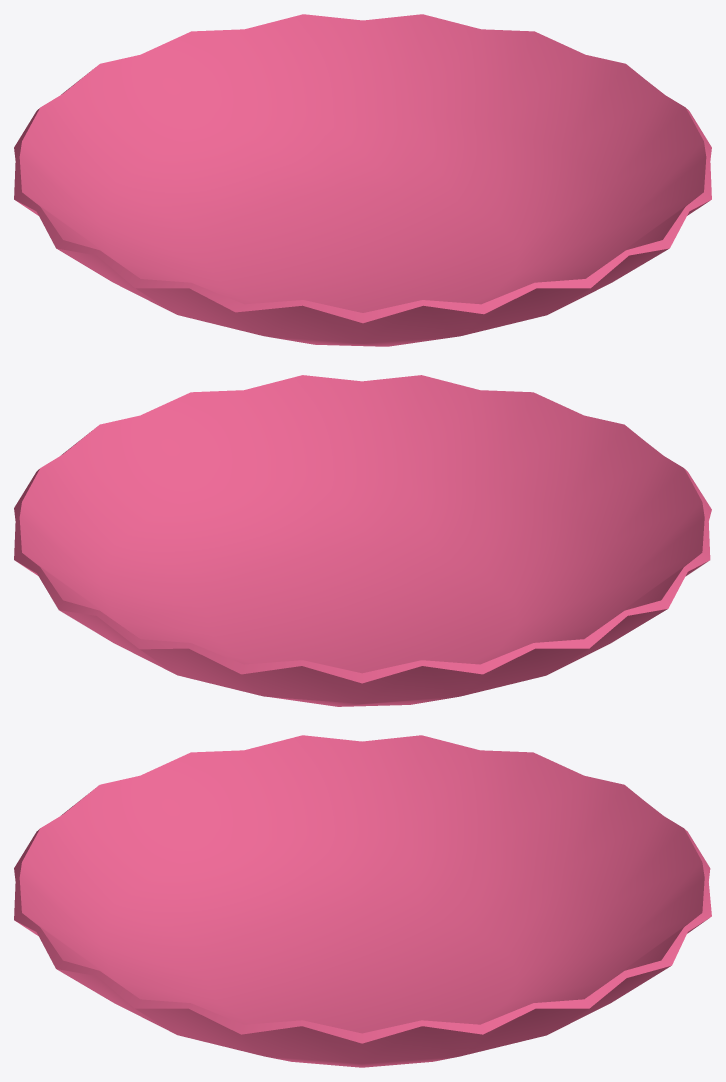
The model's file is Tableware_V8_3.fbx.
The picture shows the model from 3 angles, top to bottom: view 1: azimuth 30°, elevation 25°; view 2: azimuth 150°, elevation 25°; view 3: azimuth 270°, elevation 25°; orthographic projection.
Parts seen in each view (by area): view 1: SM_Tableware_V8_3; view 2: SM_Tableware_V8_3; view 3: SM_Tableware_V8_3.
Boxes of the visible parts, <box> form: SM_Tableware_V8_3: <box>14,14,711,346</box>; SM_Tableware_V8_3: <box>14,375,711,706</box>; SM_Tableware_V8_3: <box>14,735,711,1067</box>.
Size of the model in its own units: 19.28 by 3.35 by 19.03.
